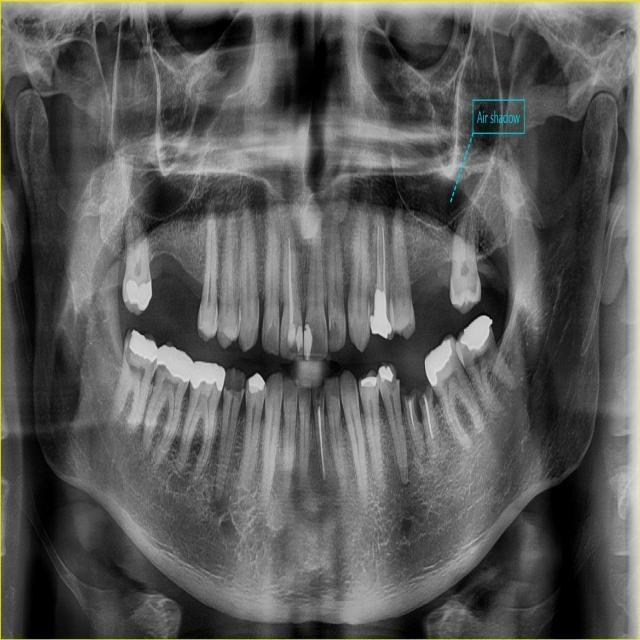dentin-curugu: (327, 312, 345, 354), (225, 363, 246, 397), (308, 382, 326, 407)
dolgu: (455, 311, 495, 354), (187, 358, 226, 401), (157, 342, 192, 386), (422, 338, 458, 379), (123, 330, 158, 371), (121, 272, 154, 314), (368, 293, 393, 346), (282, 326, 304, 356), (362, 369, 379, 406), (302, 320, 318, 358), (249, 370, 267, 401), (378, 363, 398, 390)
kanal-tedavisi: (282, 232, 297, 328), (372, 216, 388, 292), (314, 404, 328, 488), (406, 396, 419, 444), (423, 396, 435, 440)
kirik: (398, 381, 437, 408)
